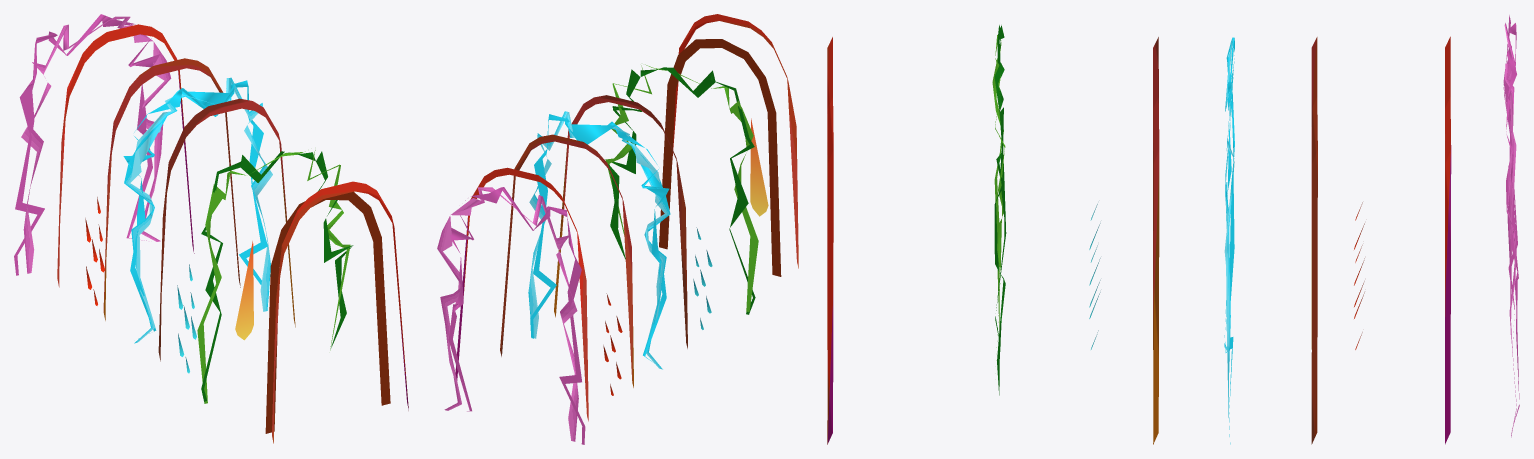
The model's file is tunel-006.gltf.
3 renders of one model, left to right at view 1: azimuth 30°, elevation 25°; view 2: azimuth 150°, elevation 25°; view 3: azimuth 270°, elevation 25°, orthographic. The views are drawn at different scales.
Parts seen in each view (by area): view 1: Tunel-Electrico-f.006; view 2: Tunel-Electrico-f.006; view 3: Tunel-Electrico-f.006.
Boxes of the visible parts, x1,y1,x2,y2 form: Tunel-Electrico-f.006: (14, 14, 408, 443); Tunel-Electrico-f.006: (437, 14, 798, 444); Tunel-Electrico-f.006: (827, 15, 1519, 444).
Size of the model in its own units: 3.36 by 4.86 by 8.73.
Materials: 1 (1 with a texture image).
